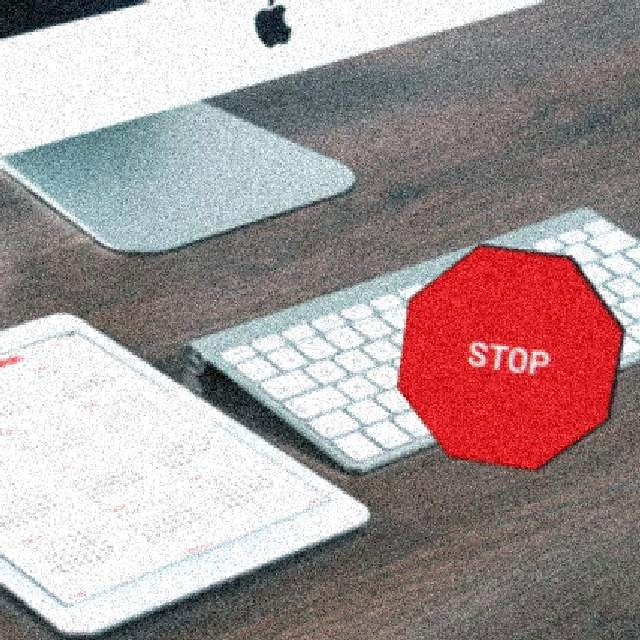STOP: (395, 242, 624, 470)
